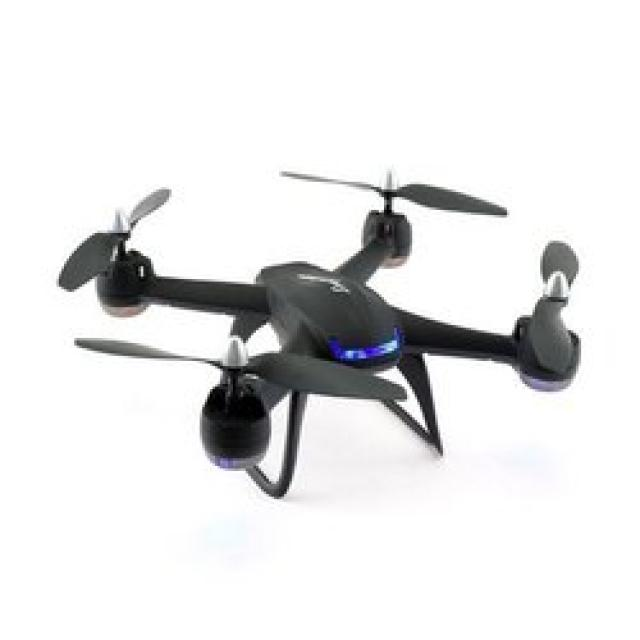drone: (0, 138, 620, 520)
